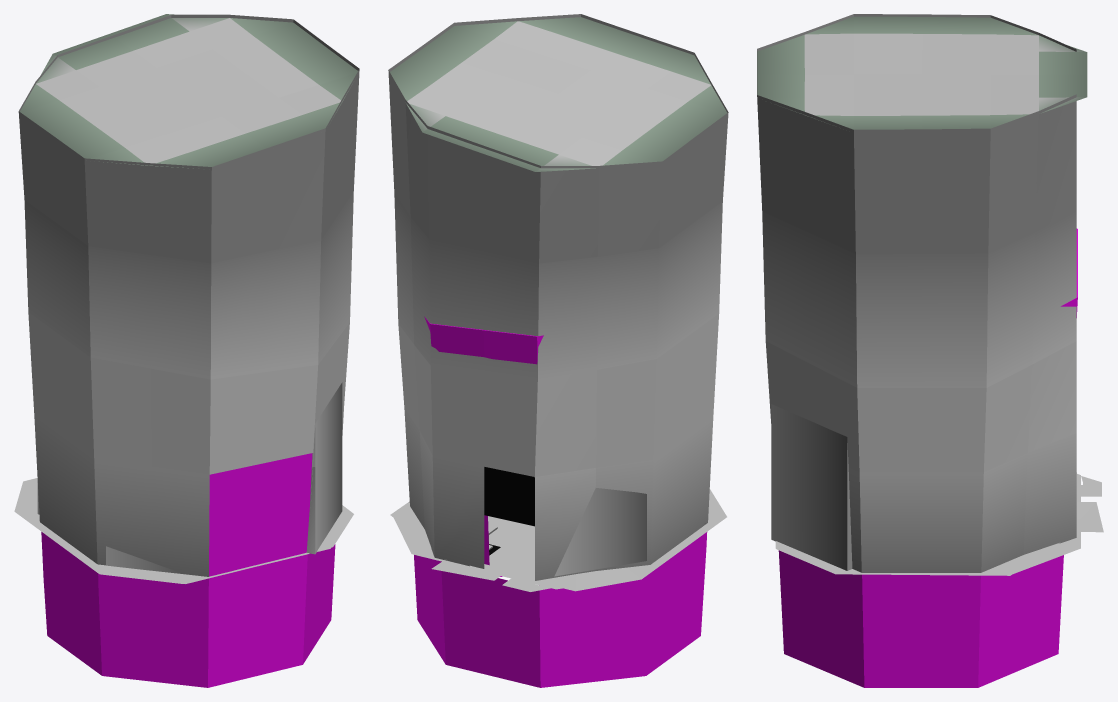
The model's file is office_boss_room.fbx.
3 renders of one model, left to right at view 1: azimuth 30°, elevation 25°; view 2: azimuth 150°, elevation 25°; view 3: azimuth 270°, elevation 25°, orthographic. The views are drawn at different scales.
Parts seen in each view (by area): view 1: wall (×2), ceiling, Books_1, polySurface5, Books_2; view 2: wall (×2), ceiling, Books_4, polySurface5, platform; view 3: wall (×2), ceiling, Books_1, polySurface5, platform.
Boxes of the visible parts, bbox=[...] form: wall (×2): bbox=[18, 14, 359, 687]; ceiling: bbox=[20, 14, 357, 168]; Books_1: bbox=[306, 382, 342, 554]; polySurface5: bbox=[14, 478, 353, 583]; Books_2: bbox=[106, 546, 184, 574]; wall (×2): bbox=[388, 14, 728, 687]; ceiling: bbox=[390, 17, 727, 171]; Books_4: bbox=[554, 488, 646, 576]; polySurface5: bbox=[390, 489, 726, 591]; platform: bbox=[394, 516, 562, 589]; wall (×2): bbox=[757, 14, 1077, 687]; ceiling: bbox=[757, 16, 1087, 129]; Books_1: bbox=[771, 404, 852, 570]; polySurface5: bbox=[776, 472, 1103, 575]; platform: bbox=[775, 474, 1080, 573].
Size of what is drawn, in the model's own units: 72.2 by 138 by 76.02.
